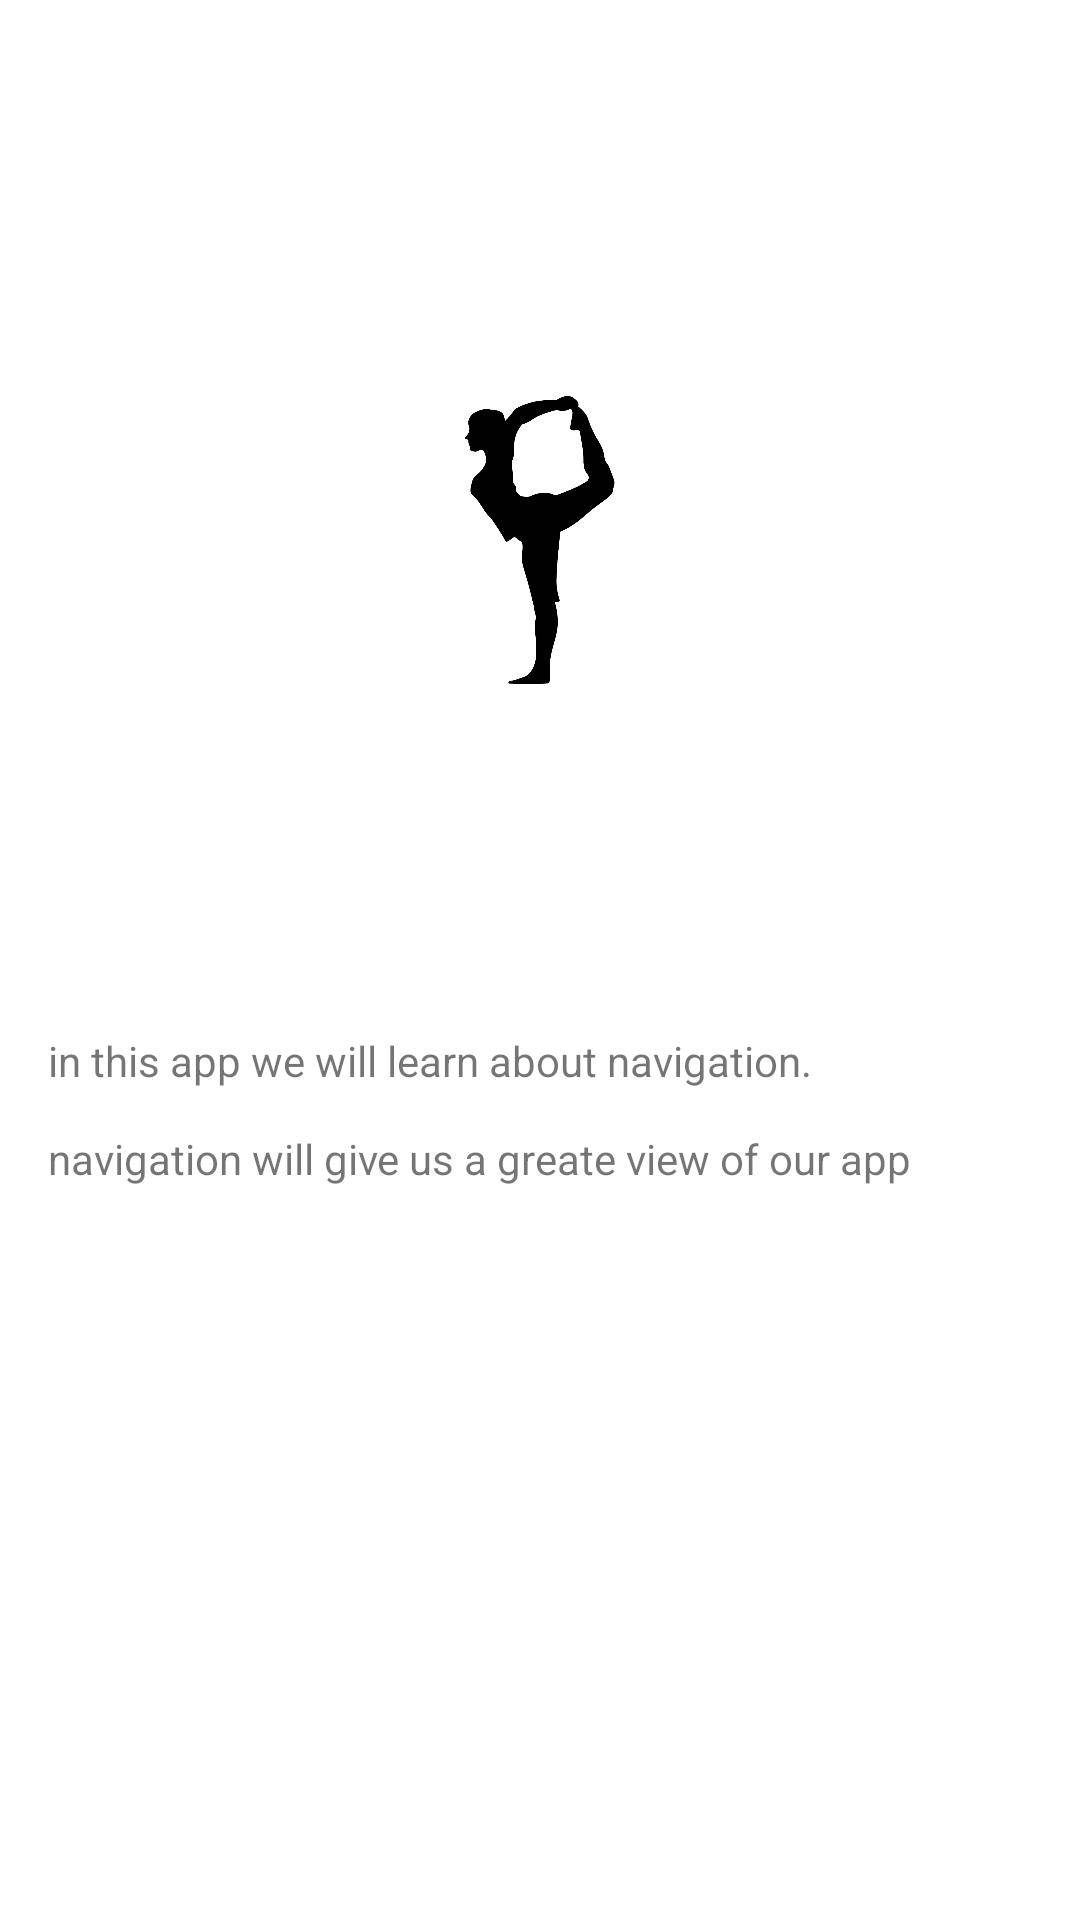

Where icons sit on this 1080px×1920px app screen, as [x1, y1, x2, y2]:
about the fitness app: [465, 396, 615, 684]
